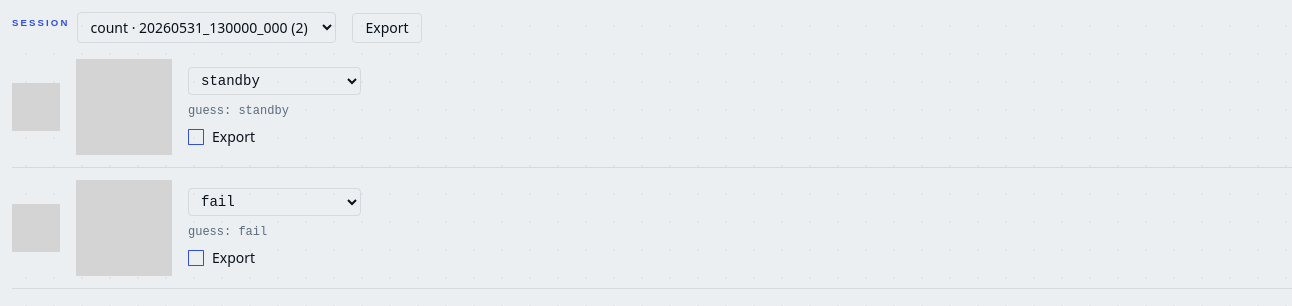
LabelPanel › loads an older session's frames when it is selected
The width and height of the screenshot is (1292, 306).
Expected: the dropdown named "label for frame 0" is shown, [188,67,361,95]
Select "spend · 20260531_120000_000 (1)" in the dropdown labelled "Session". click: point(207, 28)
box: [77,12,336,43]
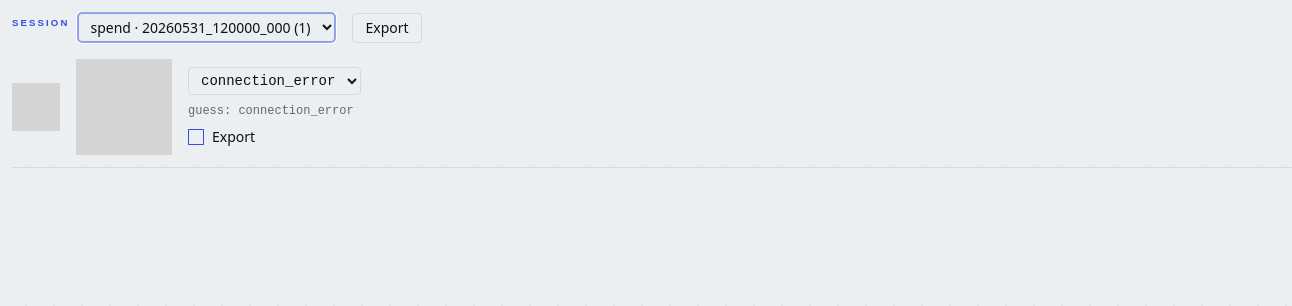
Now the dropdown named "label for frame 0" shows "connection_error", box [188,67,361,95]
